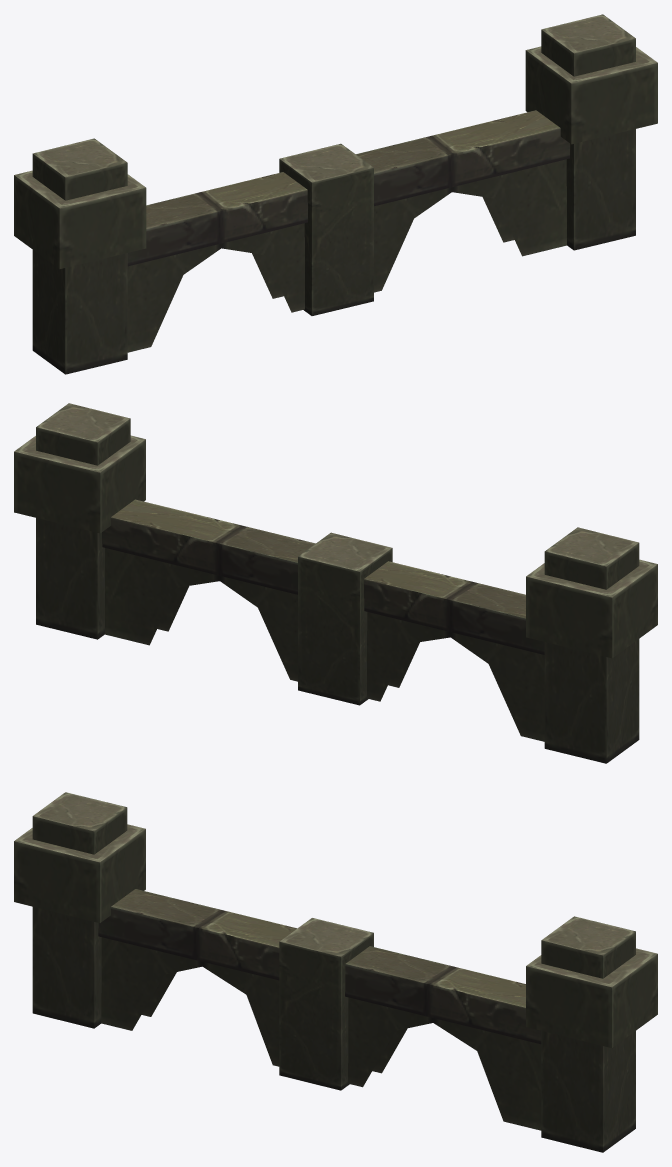
The model's file is section03_guanka10_3.FBX.
3 renders of one model, top to bottom at view 1: azimuth 30°, elevation 25°; view 2: azimuth 150°, elevation 25°; view 3: azimuth 330°, elevation 25°, orthographic.
Parts seen in each view (by area): view 1: section03_guanka10_3; view 2: section03_guanka10_3; view 3: section03_guanka10_3.
Part boxes in pixels (x1,y1,x2,y2): section03_guanka10_3: [14, 14, 657, 374]; section03_guanka10_3: [14, 403, 657, 763]; section03_guanka10_3: [14, 792, 657, 1152].
Size of the model in its own units: 5.08 by 0.6771 by 1.62.
